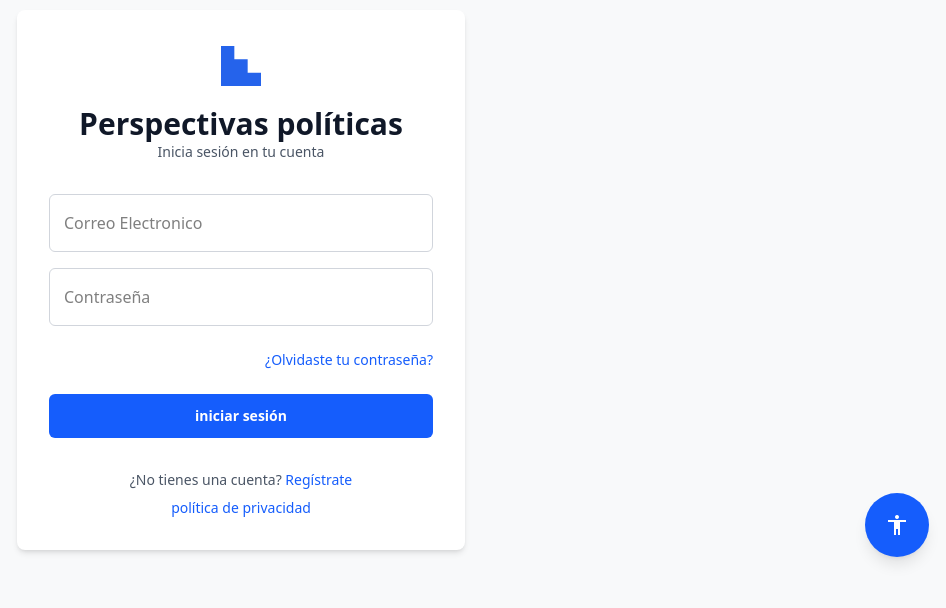
Scenario: Login Component › shows error message on failed login
The image size is (946, 608).
Type "wrong@example.com" into the field with placeholder "Correo Electronico" at (241, 223), box x1=49 y1=194 x2=433 y2=252
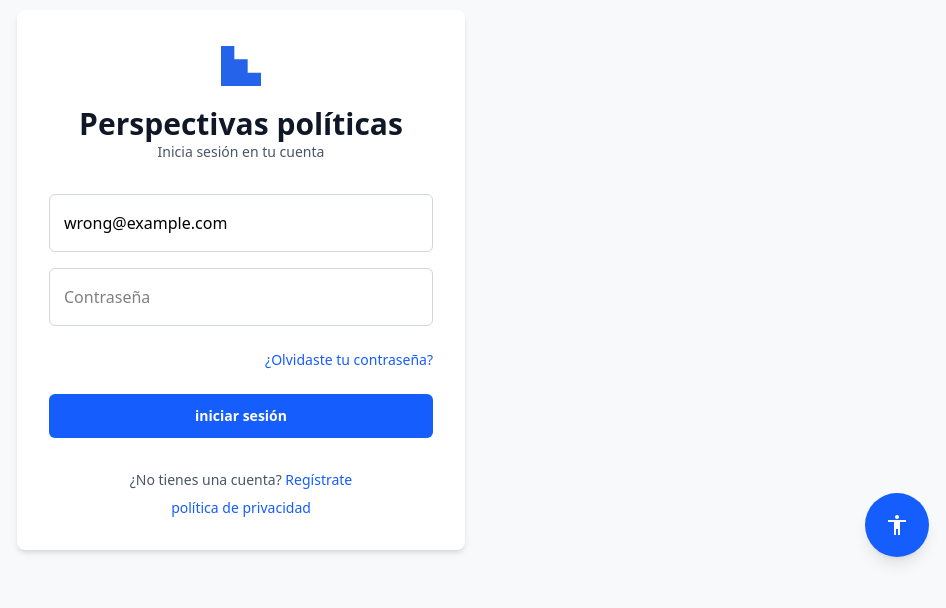
Type "wrongpassword" into the password field with placeholder "Contraseña" at (241, 297), box x1=49 y1=268 x2=433 y2=326
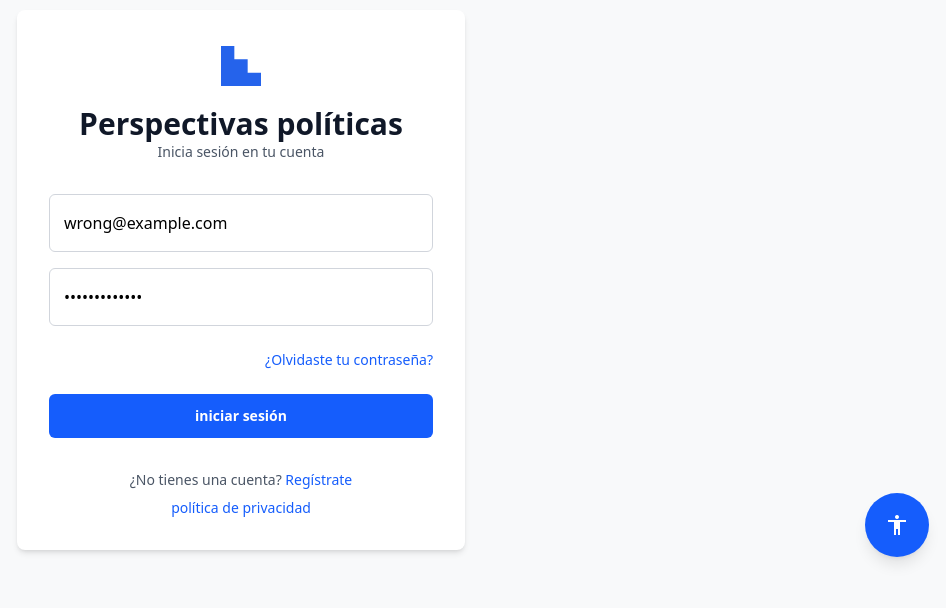
Click the button "iniciar sesión" at (241, 416), box x1=49 y1=394 x2=433 y2=438
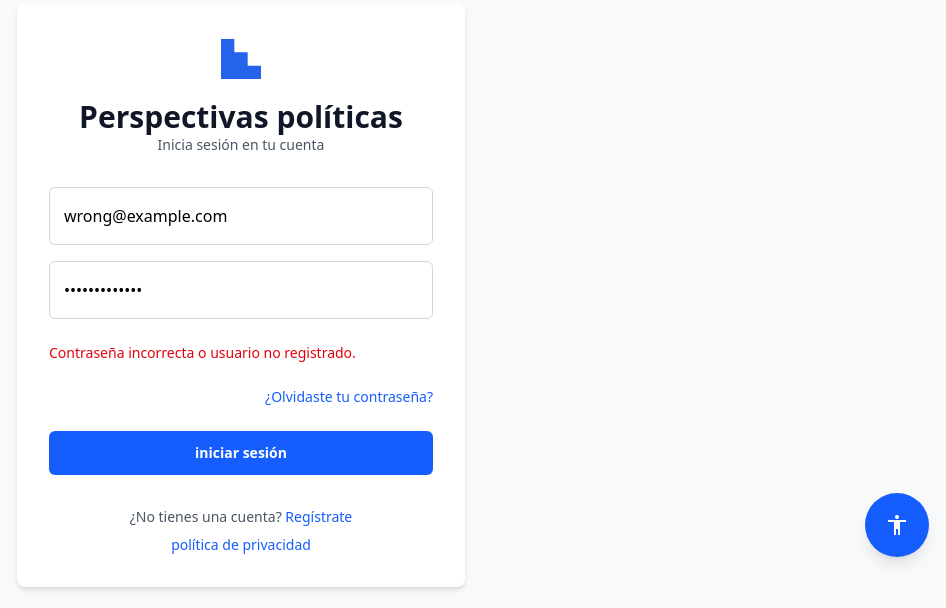
Now the text "Contraseña incorrecta o usuario no registrado." is shown, box x1=49 y1=343 x2=356 y2=363
